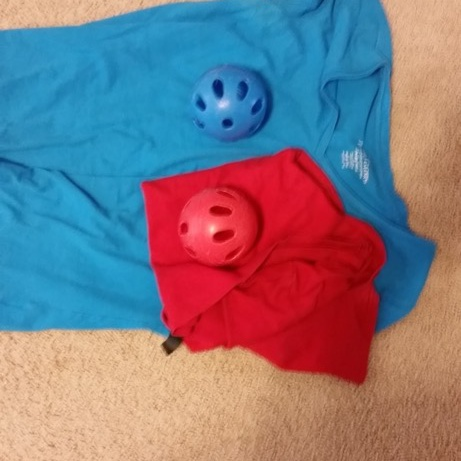ball: (174, 184, 262, 270), (185, 62, 272, 145)
